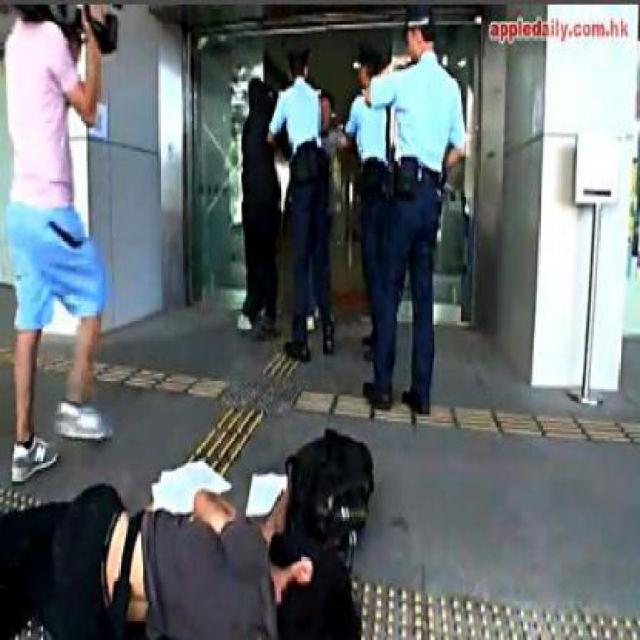fall: (0, 454, 328, 638)
